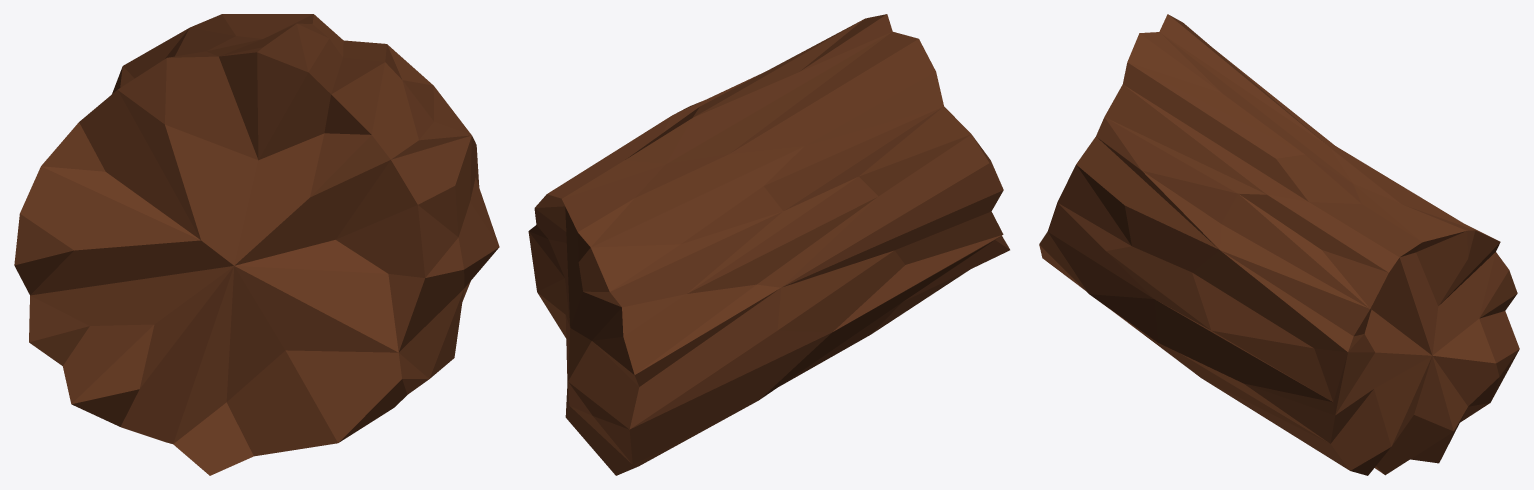
The model's file is Boulder_04_Tall.obj.
The picture shows the model from 3 angles, left to right: view 1: azimuth 30°, elevation 25°; view 2: azimuth 150°, elevation 25°; view 3: azimuth 270°, elevation 25°; orthographic projection. The views are drawn at different scales.
Visible parts, largest first — view 1: Boulder_04_Tall; view 2: Boulder_04_Tall; view 3: Boulder_04_Tall.
Part boxes in pixels (x1=…): Boulder_04_Tall: x1=14, y1=14, x2=499, y2=475; Boulder_04_Tall: x1=528, y1=14, x2=1009, y2=475; Boulder_04_Tall: x1=1039, y1=14, x2=1519, y2=475.
Size of the model in its own units: 2.89 by 2.67 by 3.12.
